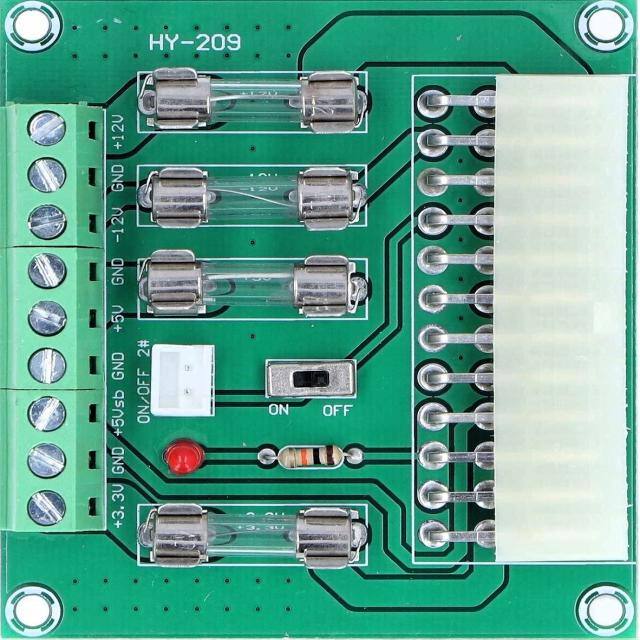2235: (268, 360, 353, 405)
LED: (168, 442, 202, 473)
connector -5v-: (414, 72, 640, 560), (7, 102, 107, 248), (8, 392, 102, 533), (7, 249, 100, 390), (148, 344, 219, 421)
fuse F1: (137, 508, 361, 571), (146, 68, 362, 132), (145, 167, 360, 230), (152, 257, 362, 321)
resistor IR1: (271, 448, 356, 471)
